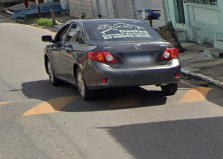car: (43, 18, 187, 103)
